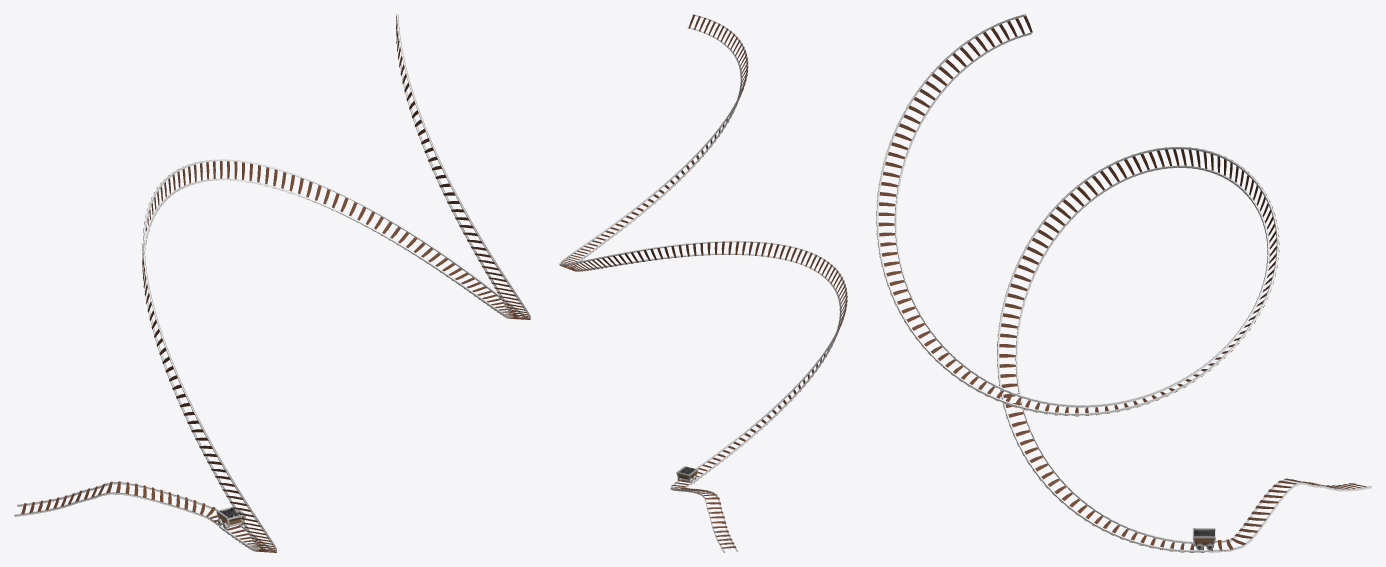
The picture shows the model from 3 angles, left to right: view 1: azimuth 30°, elevation 25°; view 2: azimuth 150°, elevation 25°; view 3: azimuth 270°, elevation 25°; orthographic projection. The views are drawn at different scales.
Parts seen in each view (by area): view 1: Rails 1, Rails 2; view 2: Rails 1, Rails 2; view 3: Rails 1, Rails 2.
Boxes of the visible parts, box(x1,y1,x2,y2) form: Rails 1: box(142, 14, 530, 552); Rails 2: box(14, 481, 222, 525); Rails 1: box(559, 14, 847, 484); Rails 2: box(670, 480, 737, 552); Rails 1: box(876, 14, 1279, 552); Rails 2: box(1211, 478, 1371, 552).
Size of the model in its own units: 45.87 by 71.38 by 55.12.
Materials: 2 (2 with a texture image).
